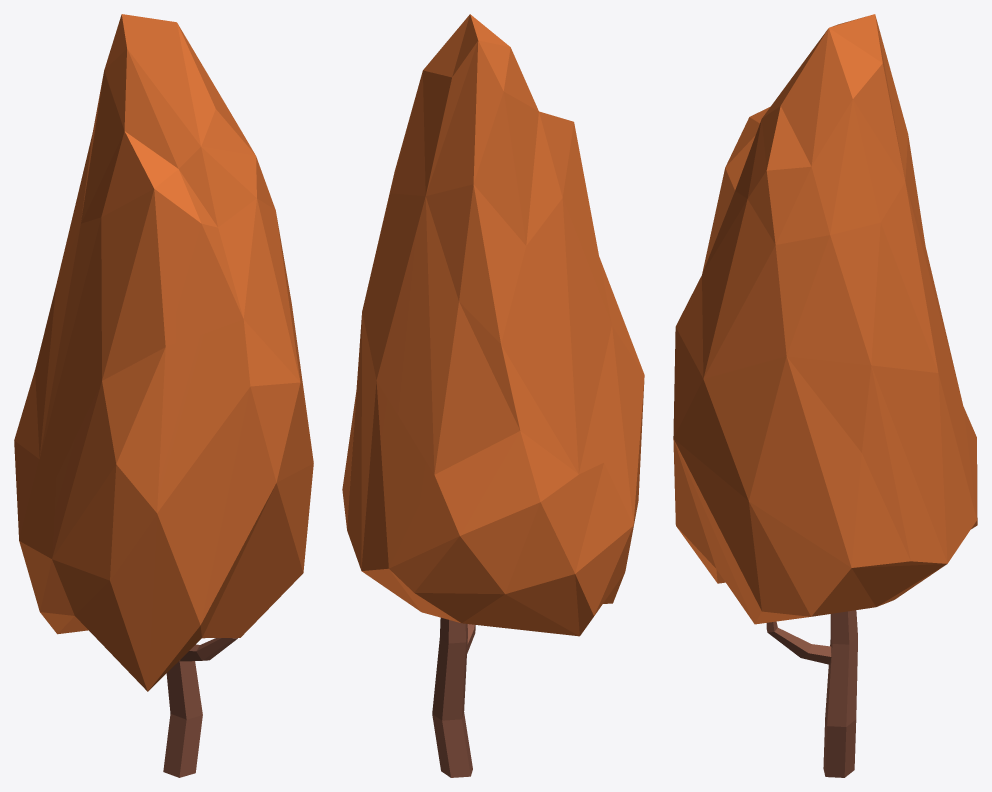
Rendered from Tree_04.fbx.
3 views of the same model, side by side, from view 1: azimuth 30°, elevation 25°; view 2: azimuth 150°, elevation 25°; view 3: azimuth 270°, elevation 25° (orthographic). The views are drawn at different scales.
Parts seen in each view (by area): view 1: Tree_04; view 2: Tree_04; view 3: Tree_04.
Boxes of the visible parts, x1=… form: Tree_04: x1=14, y1=14, x2=313, y2=777; Tree_04: x1=342, y1=14, x2=644, y2=777; Tree_04: x1=673, y1=14, x2=977, y2=777.
Bounding box in the file's own units: 273 × 758 × 282.
